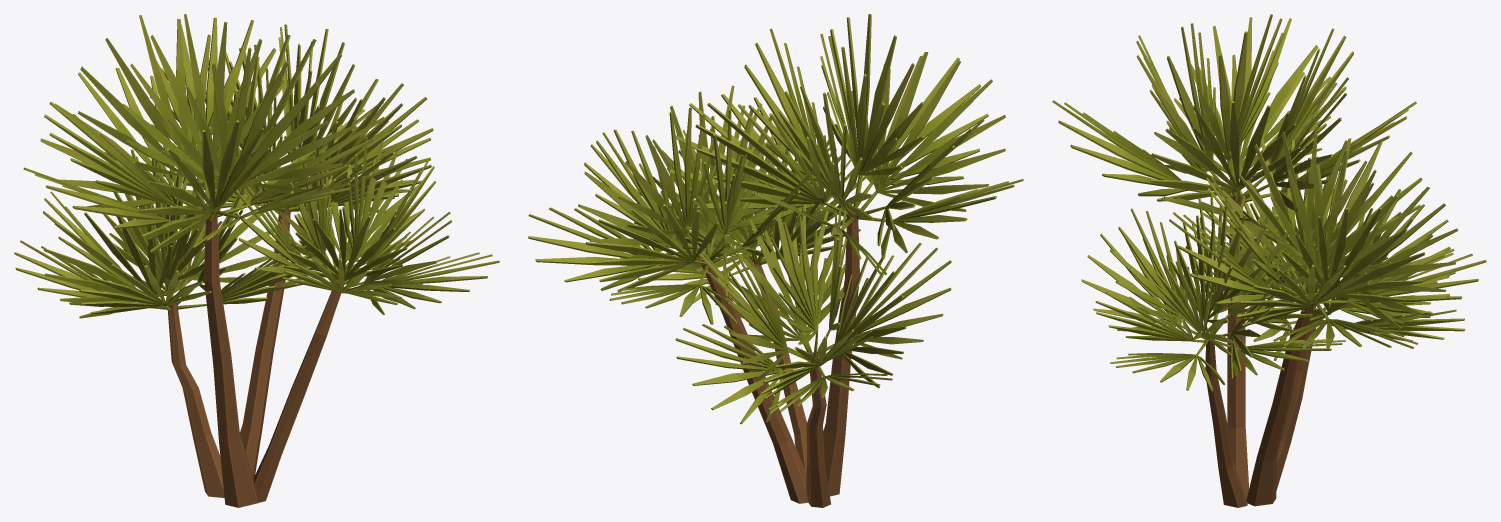
The model's file is Palm_Trees.glb.
3 views of the same model, side by side, from view 1: azimuth 30°, elevation 25°; view 2: azimuth 150°, elevation 25°; view 3: azimuth 270°, elevation 25° (orthographic). The views are drawn at different scales.
Visible parts, largest first — view 1: node-0; view 2: node-0; view 3: node-0.
Part boxes in pixels (x1,y1,x2,y2): node-0: [14, 14, 499, 507]; node-0: [528, 14, 1023, 507]; node-0: [1052, 14, 1486, 507].
Bounding box in the file's own units: 7.72 × 8.1 × 6.86.
Materials: 1 (1 with a texture image).
